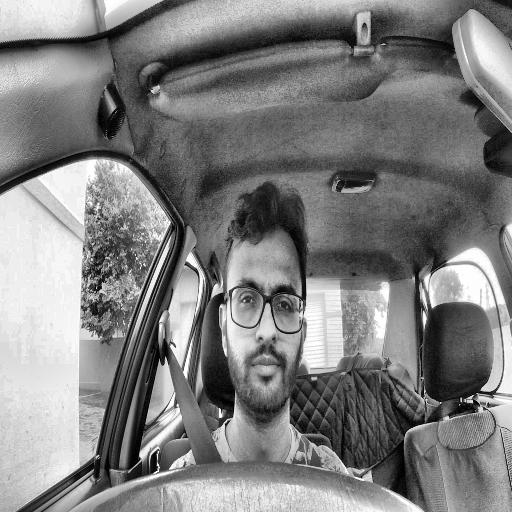awake: (219, 179, 307, 419)
